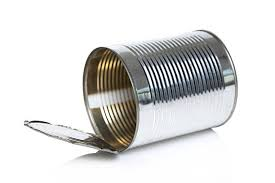can: (18, 27, 244, 157)
